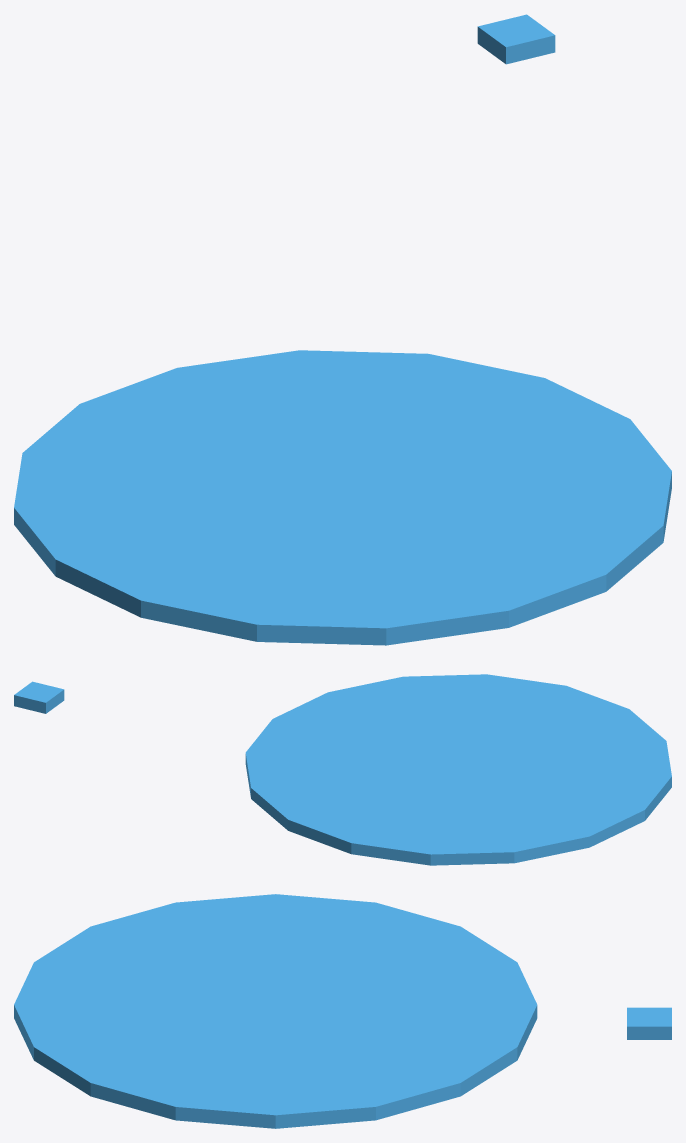
The model's file is machine_charger_glow.glb.
3 views of the same model, one above another, from view 1: azimuth 30°, elevation 25°; view 2: azimuth 150°, elevation 25°; view 3: azimuth 270°, elevation 25° (orthographic). The views are drawn at different scales.
Parts seen in each view (by area): view 1: machine_charger_glow; view 2: machine_charger_glow; view 3: machine_charger_glow.
Part boxes in pixels (<box>): machine_charger_glow: <box>14,14,671,645</box>; machine_charger_glow: <box>14,674,671,865</box>; machine_charger_glow: <box>14,894,671,1128</box>.
Size of the model in its own units: 0.88 by 0.235 by 0.88.
Materials: 1 (1 with a texture image).
